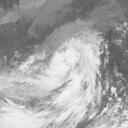cyclone: (37, 34, 103, 107)
